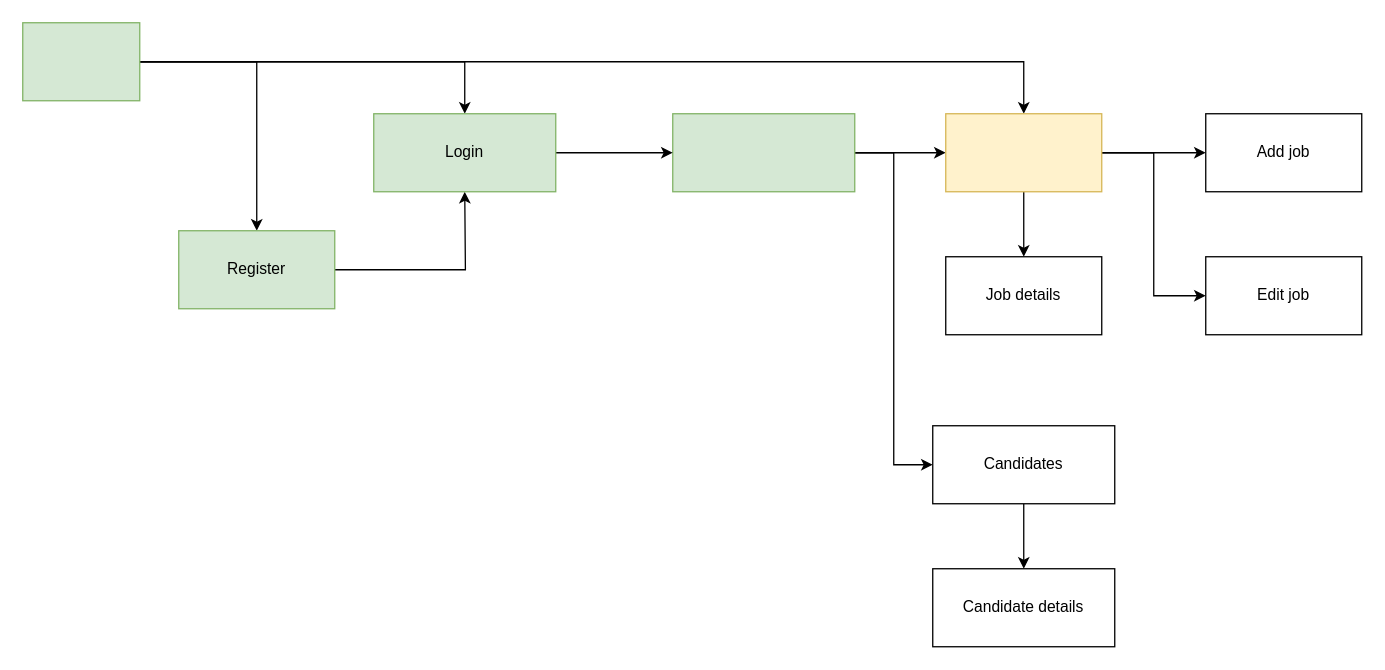
Image size: 1385x670. Some labels were removed from this diagram. Each missing label, with the centre of its shape:
Home: the point at 763,152
Jobs: the point at 1023,152
Landing: the point at 80,61
